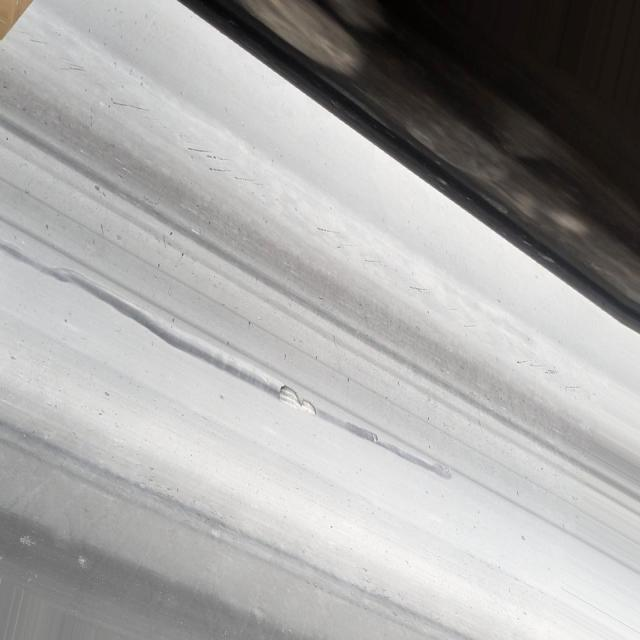Impact Damage: (274, 380, 318, 420)
